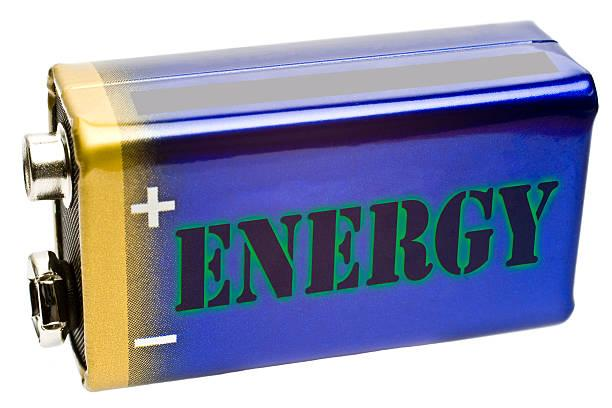9V Battery: (21, 19, 600, 394)
